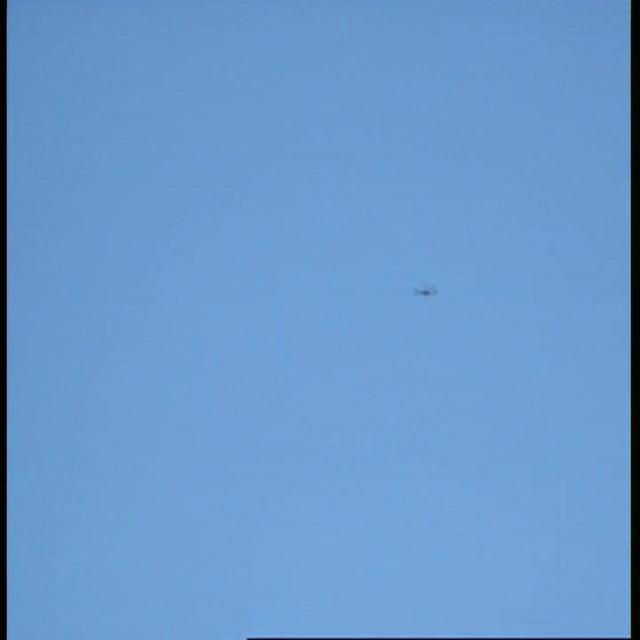drone: (406, 274, 443, 304)
